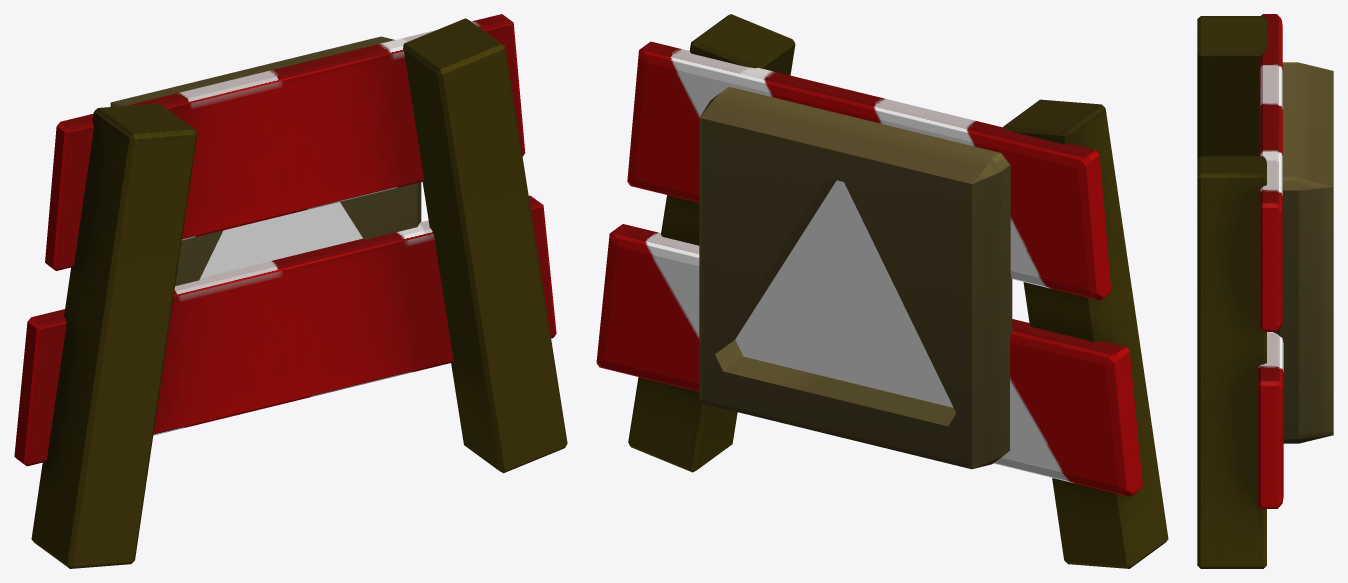
Rendered from barrierShapeTriangle.obj.
The picture shows the model from 3 angles, left to right: view 1: azimuth 30°, elevation 25°; view 2: azimuth 150°, elevation 25°; view 3: azimuth 270°, elevation 25°; orthographic projection. The views are drawn at different scales.
Visible parts, largest first — view 1: barrierTriangle.002_Cube.033, barrierShapes.007_Cube.040, barrierShapes.008_Cube.041; view 2: barrierTriangle.002_Cube.033, barrierShapes.007_Cube.040, barrierShapes.008_Cube.041; view 3: barrierTriangle.002_Cube.033, barrierShapes.007_Cube.040.
Boxes of the visible parts, x1,y1,x2,y2 form: barrierTriangle.002_Cube.033: (14,14,567,568); barrierShapes.007_Cube.040: (110,36,421,286); barrierShapes.008_Cube.041: (200,202,362,278); barrierTriangle.002_Cube.033: (596,14,1168,568); barrierShapes.007_Cube.040: (699,86,1012,469); barrierShapes.008_Cube.041: (735,180,953,407); barrierTriangle.002_Cube.033: (1197,14,1283,568); barrierShapes.007_Cube.040: (1273,62,1333,443).
Size of the model in its own units: 2.26 by 1.74 by 0.571.
